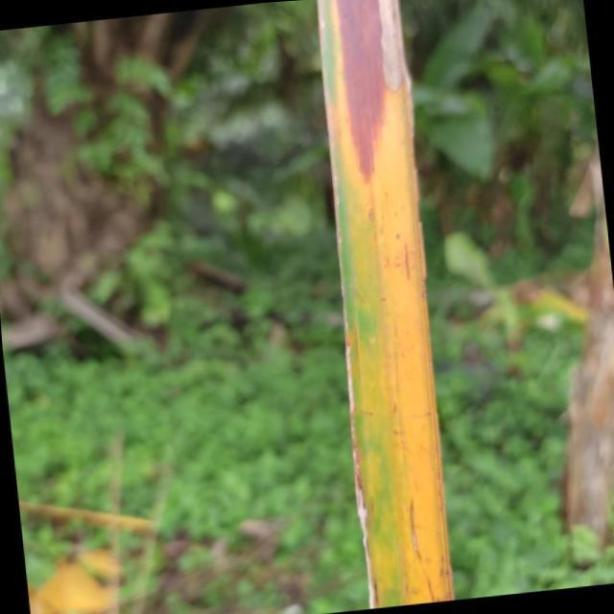Megnesium: (320, 0, 452, 609)
